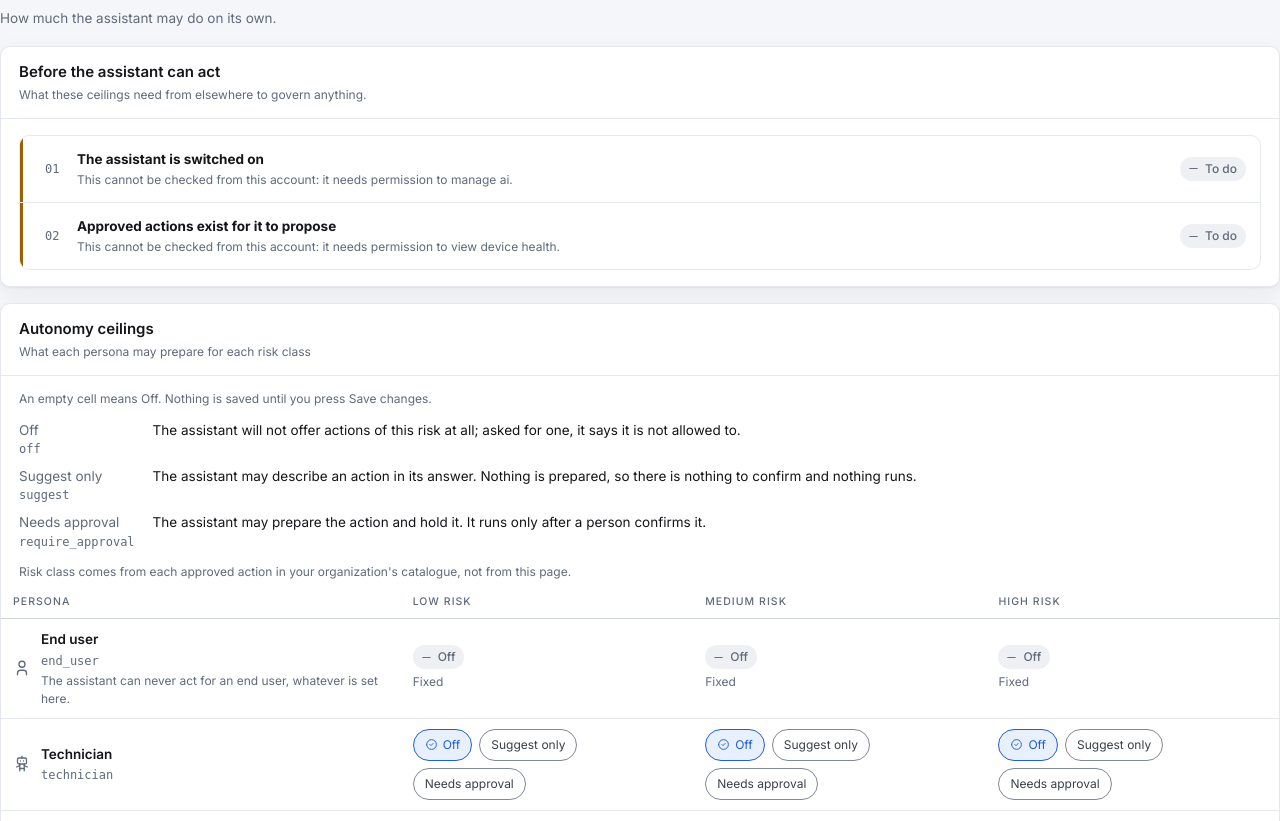
AutonomyDialPage › asks before saving, names the cell and says what the new level permits
The image size is (1280, 821).
Step 1. Click the 3rd button "Needs approval" → (1055, 784), box [998,768,1112,800]
(page scrolled)
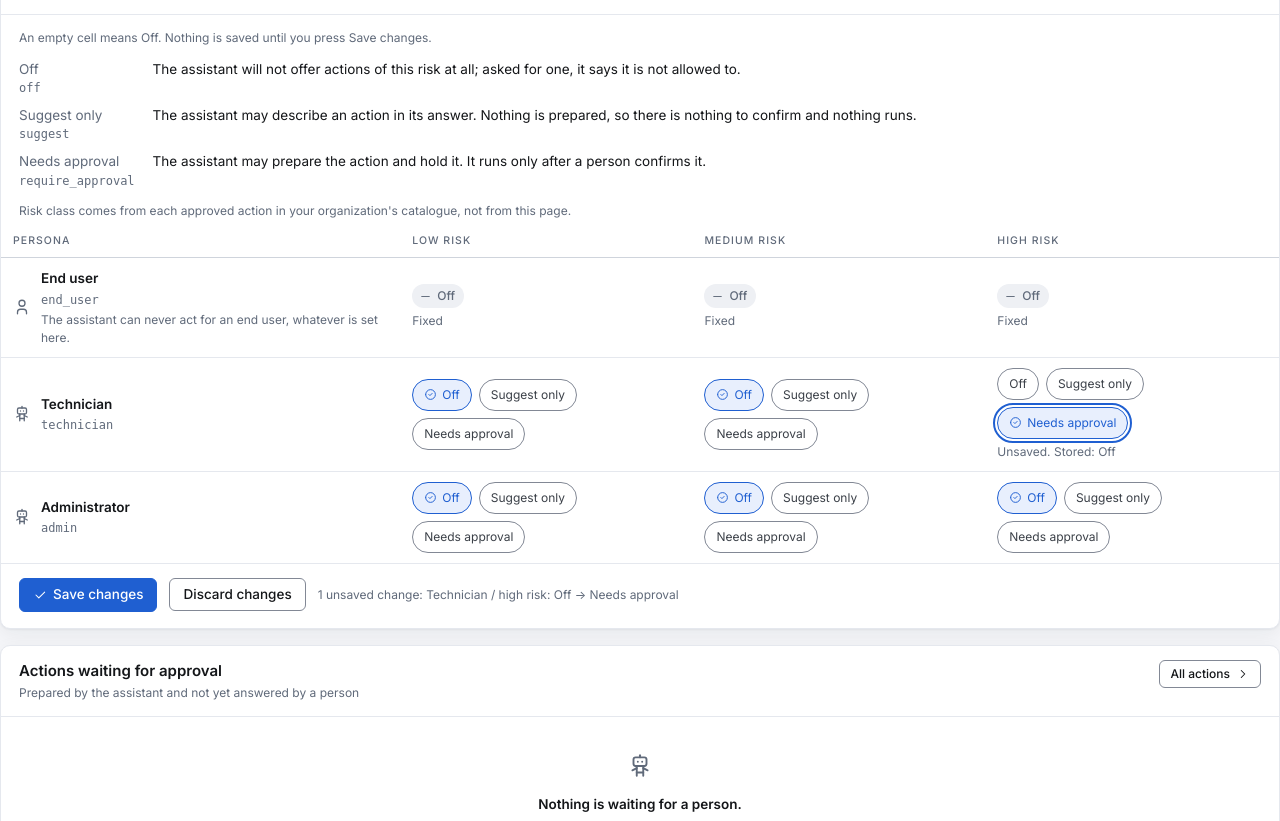
Step 2. Click the button "Save changes" → (88, 594), box [19,578,158,612]
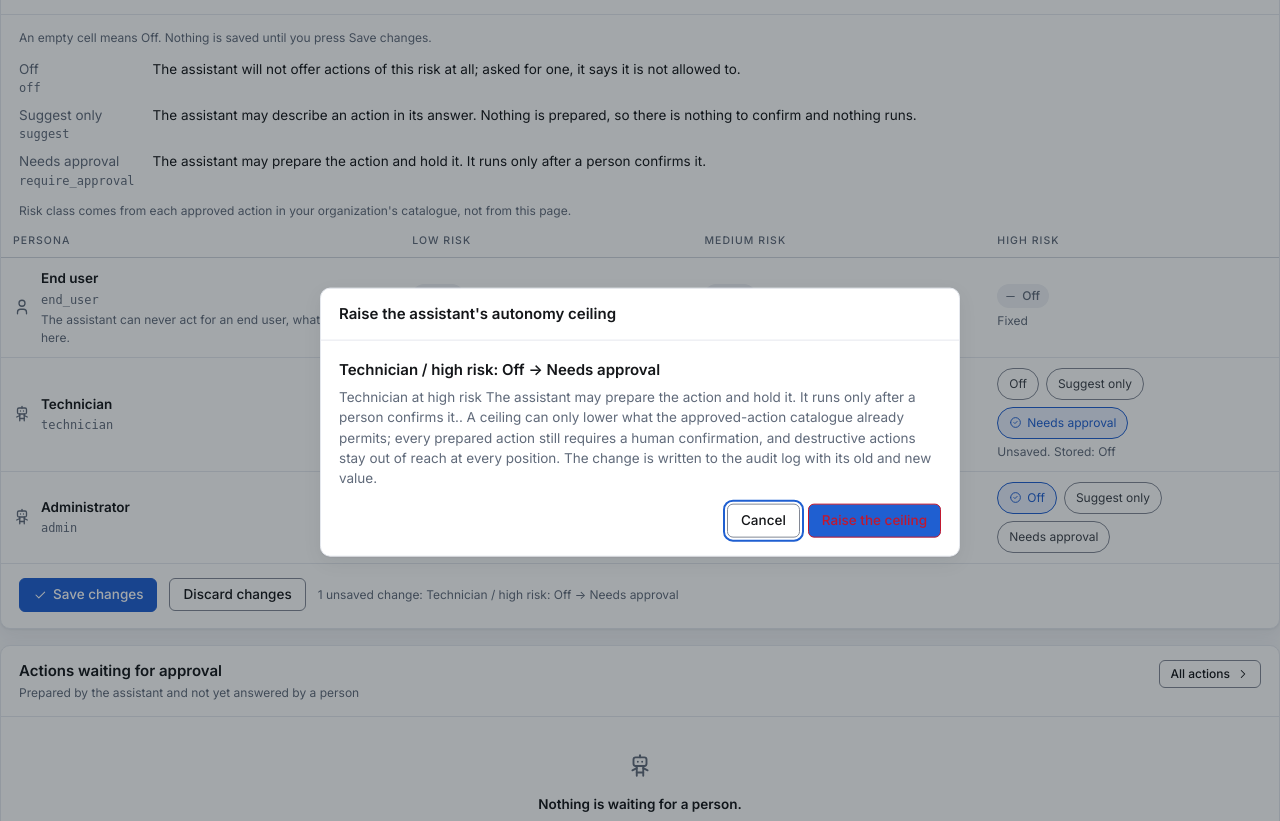
Now the dialog shows "Technician / high risk: Off → Needs approval", box [339,359,660,378]
Now the dialog shows "runs only after a person confirms it", box [339,389,931,486]
Now the dialog shows "Raise the assistant's autonomy ceiling", box [339,304,616,323]
